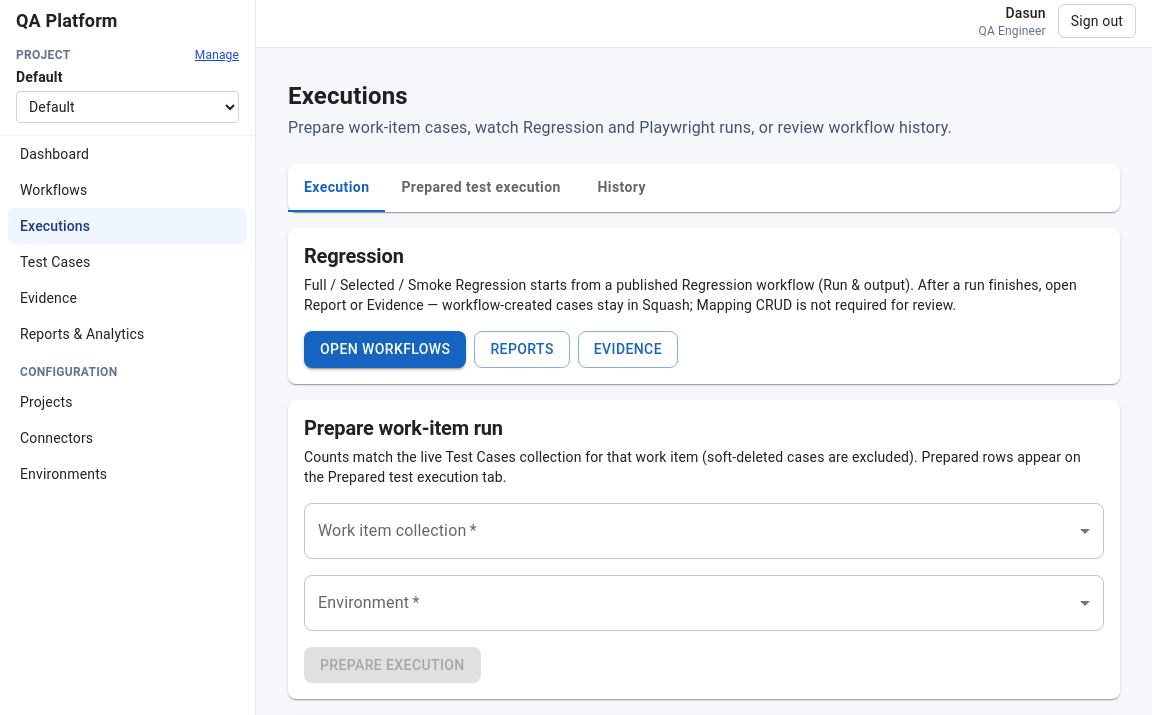
Test case: route guard › lists work-item runs on Executions and workflow history on the History tab
Expected: the tab "Execution" is shown, [288, 164, 385, 212]
Expected: the element "Regression" is shown, [288, 228, 1120, 384]
Click the tab "Prepared test execution": (481, 188) [385, 164, 577, 212]
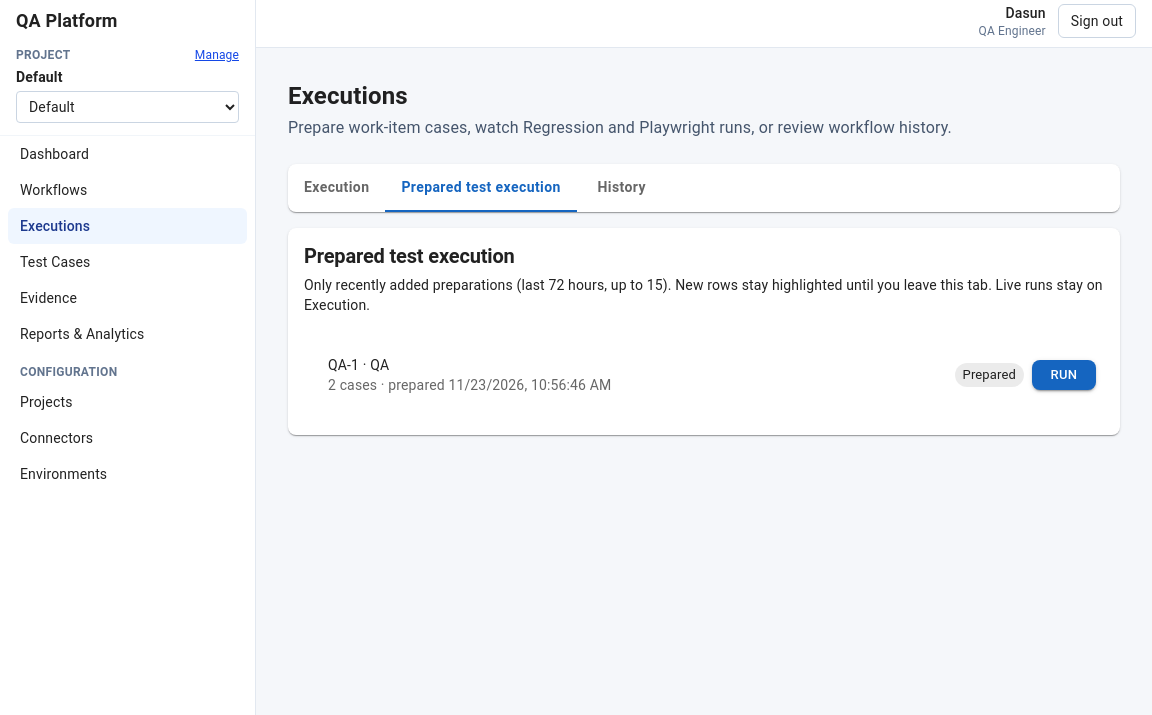
Expected: the button "Run" is shown, [1032, 360, 1096, 390]
Expected: the text "Only recently added preparations" is shown, [304, 277, 647, 293]
Click the tab "History": (622, 188) [577, 164, 667, 212]
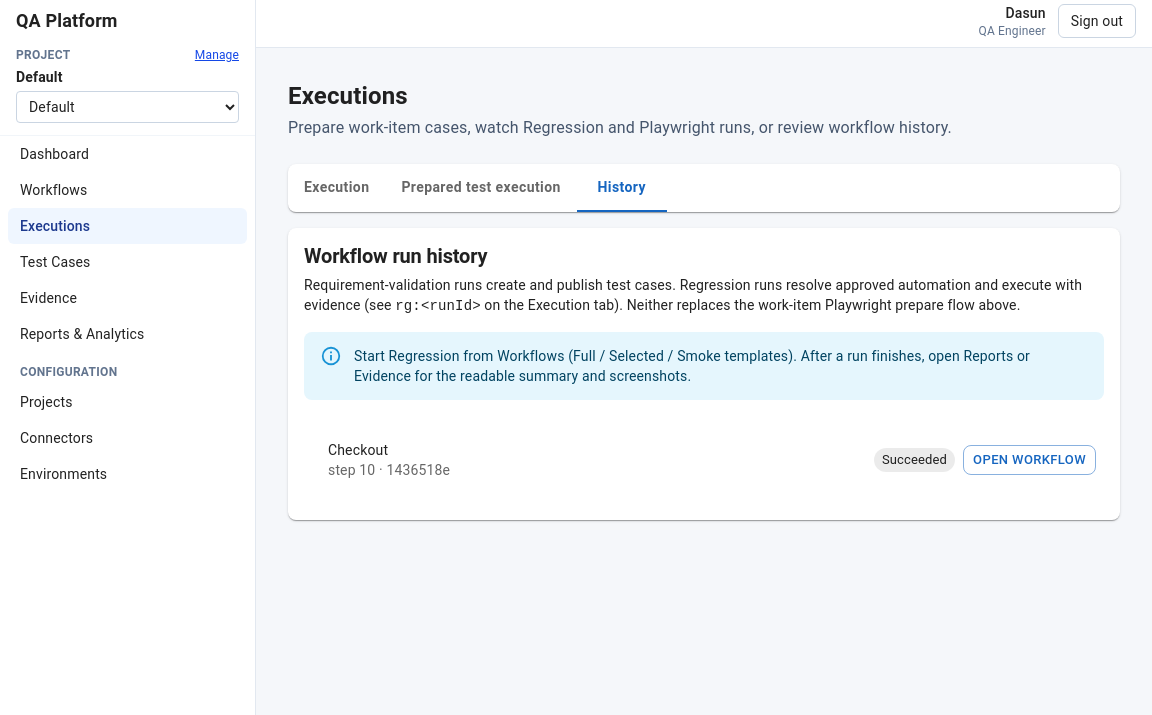
Expected: the text "Regression runs resolve approved automation" is shown, [304, 277, 1082, 313]
Expected: the text "After a run finishes, open" is shown, [564, 348, 960, 364]
Expected: the text "Succeeded" is shown, [882, 452, 947, 467]
Click the button "Checkout step 10 · 1436518e": (389, 460) [328, 442, 450, 478]
(page scrolled)
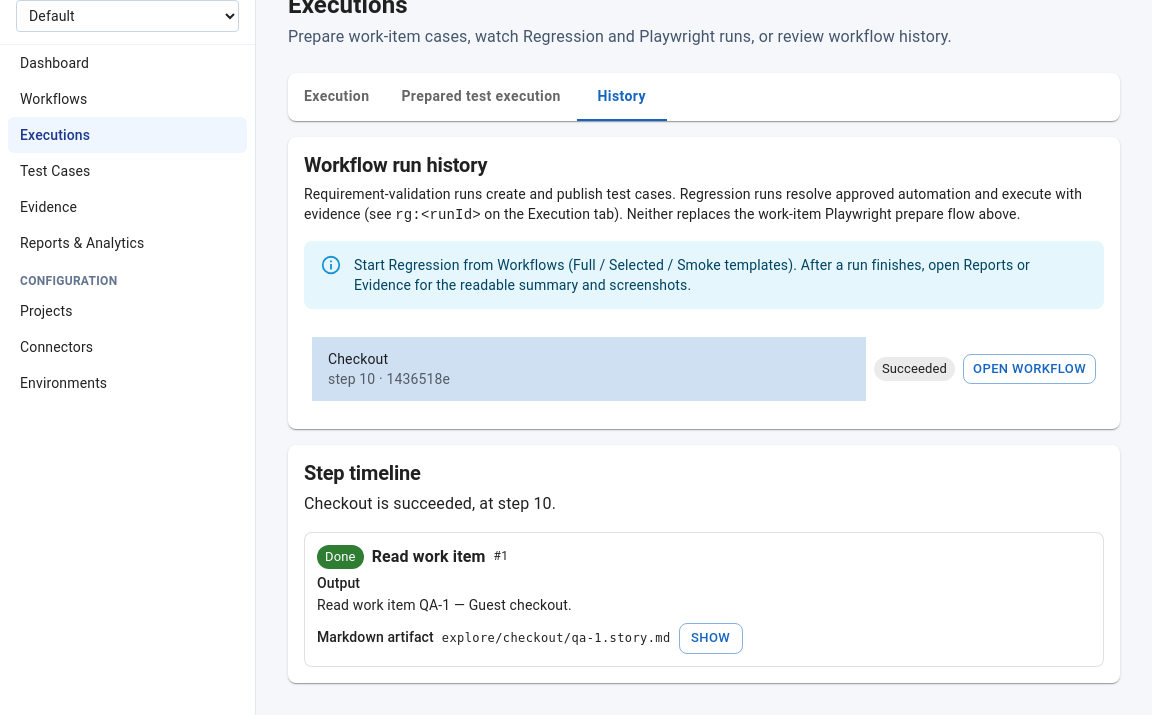
Expected: the element named "Selected run" shows "Read work item QA-1", [317, 597, 572, 613]
Expected: the heading "Markdown artifact" is shown, [317, 628, 434, 650]
Click the button "Show": (711, 638) [679, 623, 743, 654]
(page scrolled)
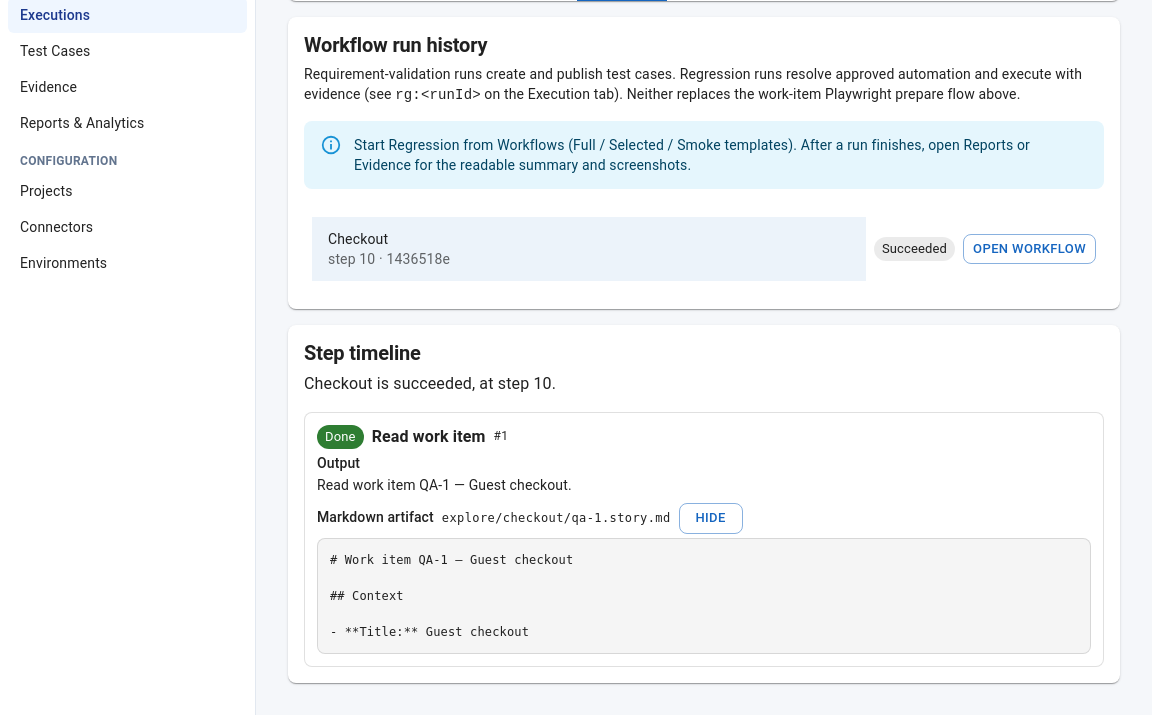
Expected: the text "explore/checkout/qa-1.story.md" is shown, [442, 508, 671, 528]
Expected: the text "Title:** Guest checkout" is shown, [330, 553, 573, 639]
